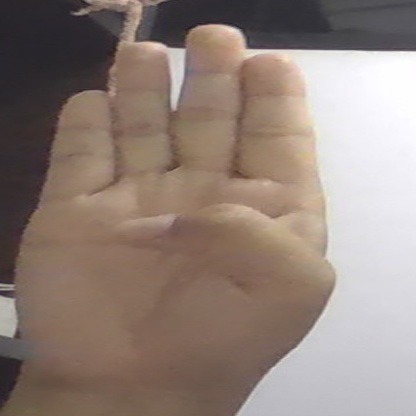B: (13, 24, 336, 399)
